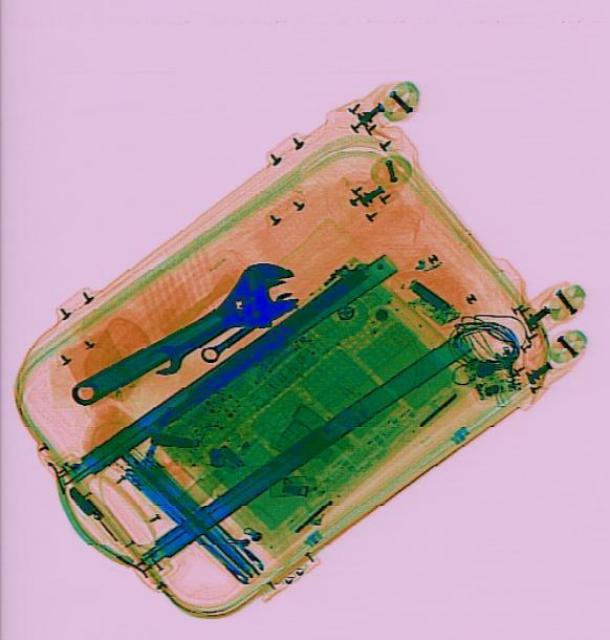Wrench: (56, 246, 311, 426), (196, 286, 299, 366), (142, 304, 239, 380)
